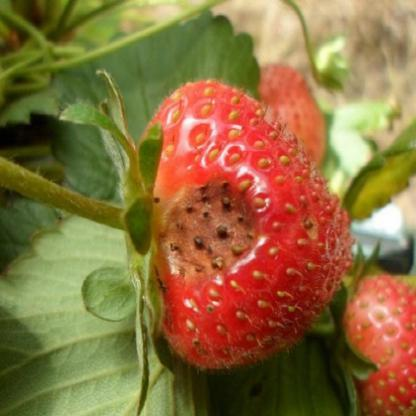Strawberry_Anthracnose_Fruit_Rot: (153, 173, 271, 288)
